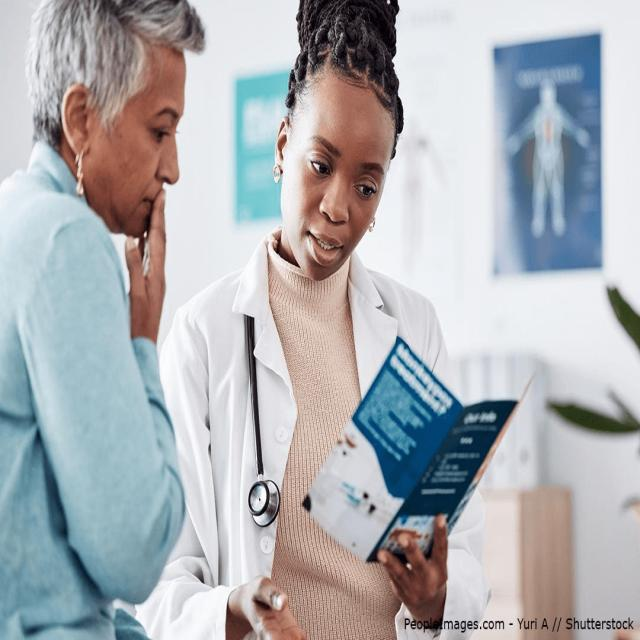sem_oculos: (74, 69, 184, 162), (268, 123, 380, 211)
